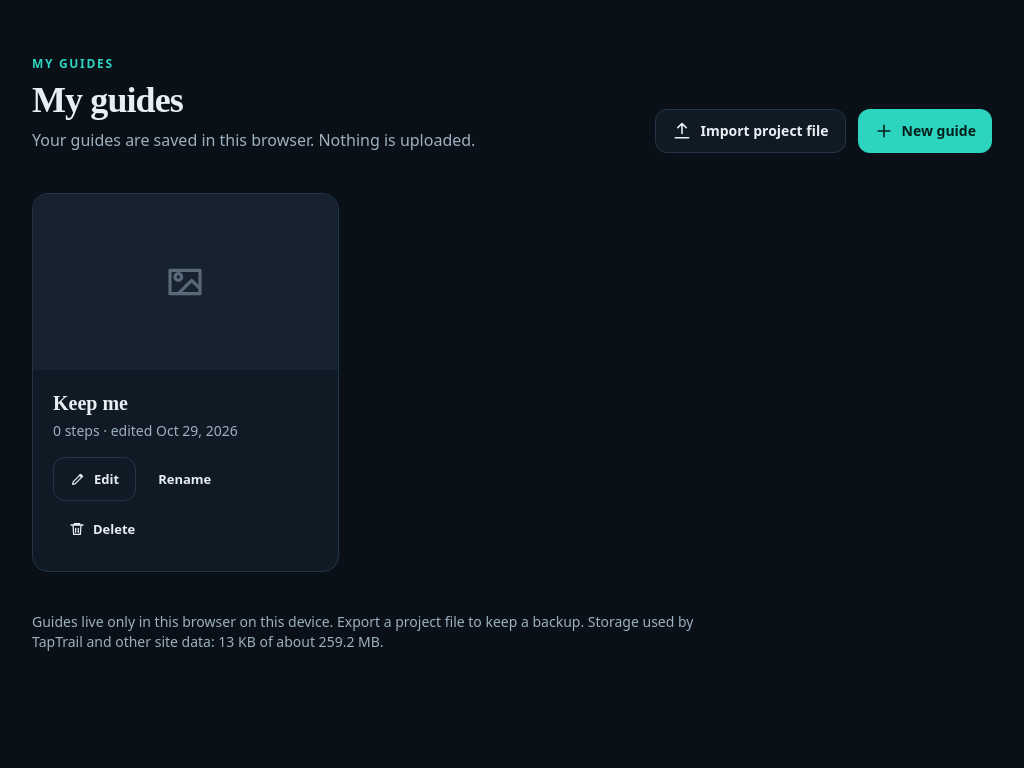
Test: Studio: guide management › asks for confirmation before deleting, and cancel keeps the guide
What coordinates should you click on to do the following:
click the button "Delete"
I would click on:
 (102, 529)
Its box is top-left (53, 507), bottom-right (151, 551).
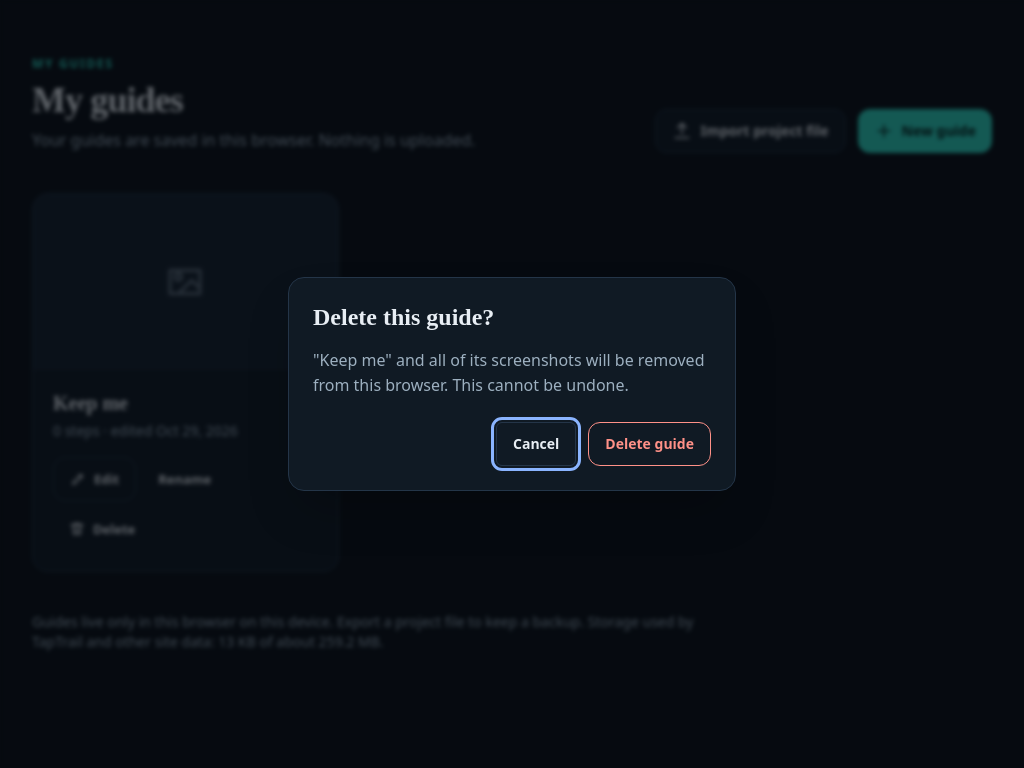
Now the heading "Delete this guide?" is shown, box top-left (313, 304), bottom-right (494, 330)
What coordinates should you click on to do the following:
click the button "Cancel"
I would click on:
 (536, 444)
Its box is top-left (496, 422), bottom-right (576, 466).
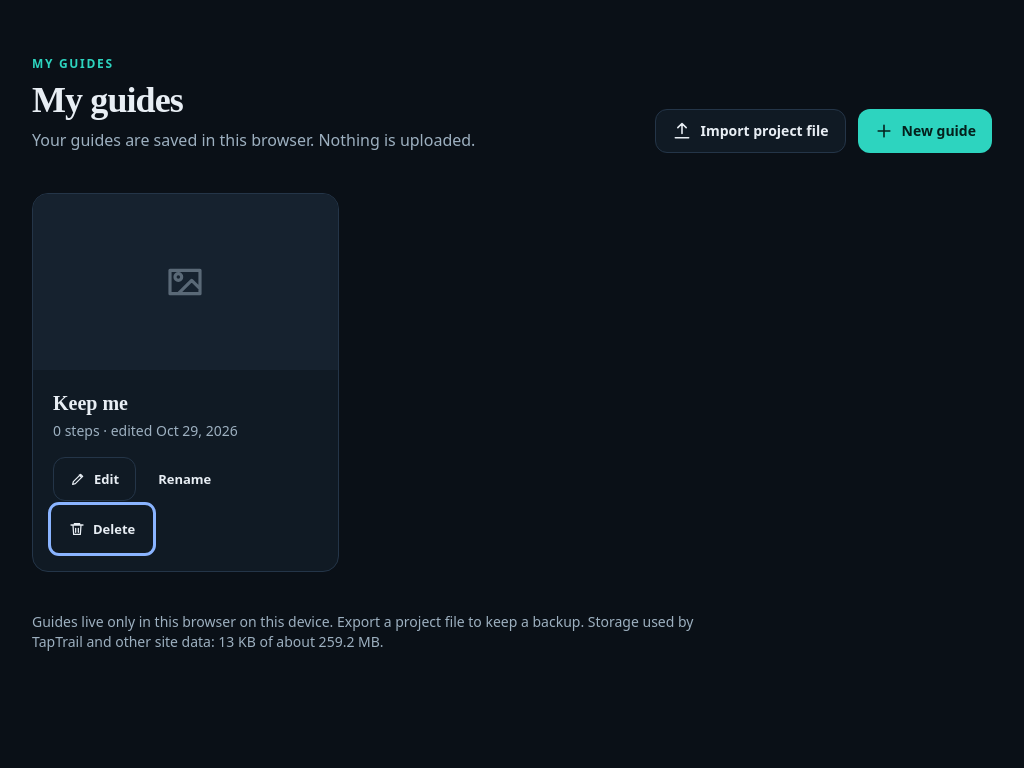
What coordinates should you click on to do the following:
click the button "Delete"
I would click on:
 (102, 529)
Its box is top-left (53, 507), bottom-right (151, 551).
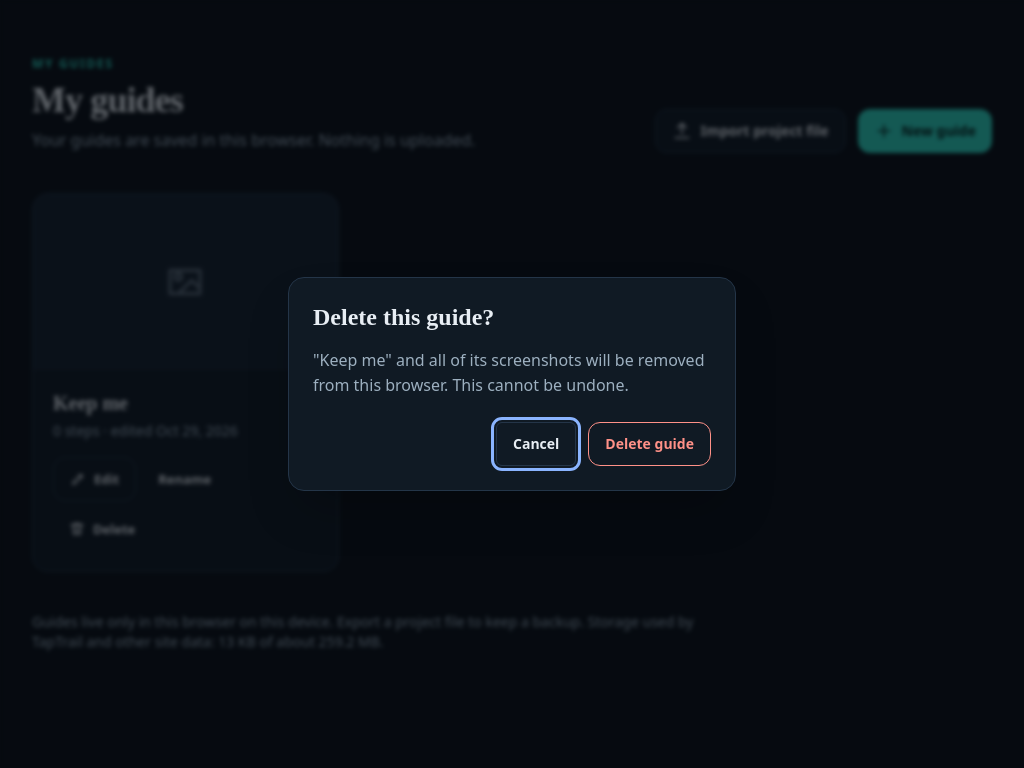
What coordinates should you click on to do the following:
click the button "Delete guide"
I would click on:
 (650, 444)
Its box is top-left (588, 422), bottom-right (711, 466).
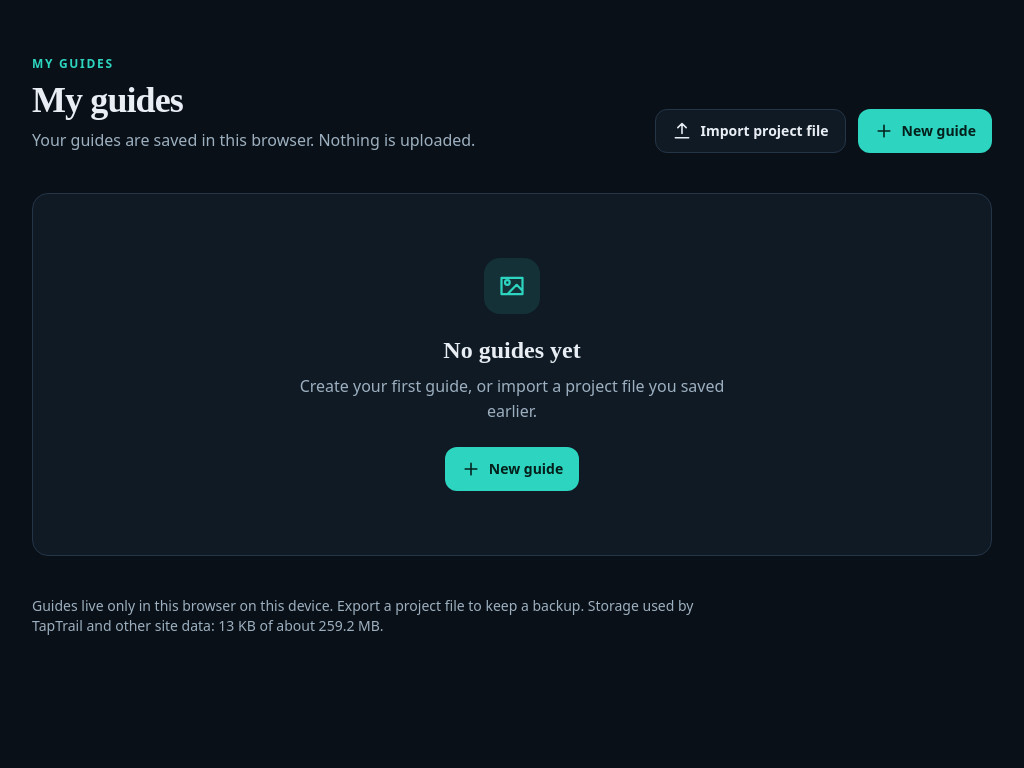
Now the heading "No guides yet" is shown, box top-left (443, 334), bottom-right (581, 366)
